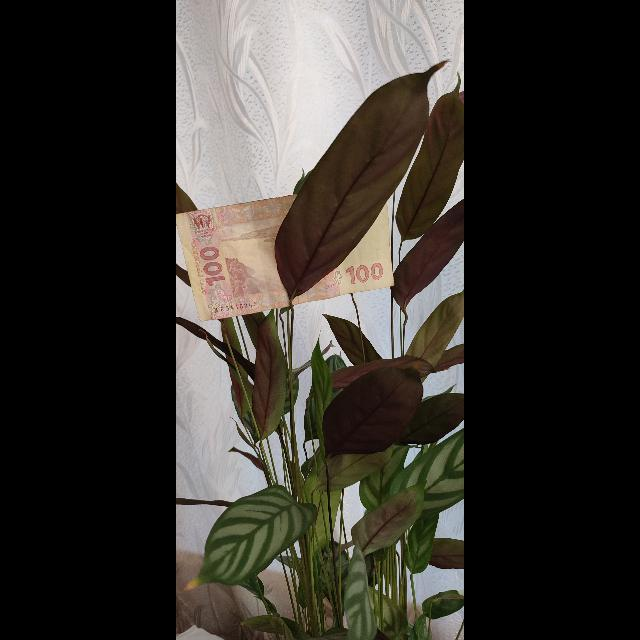100uah: (176, 194, 394, 325)
